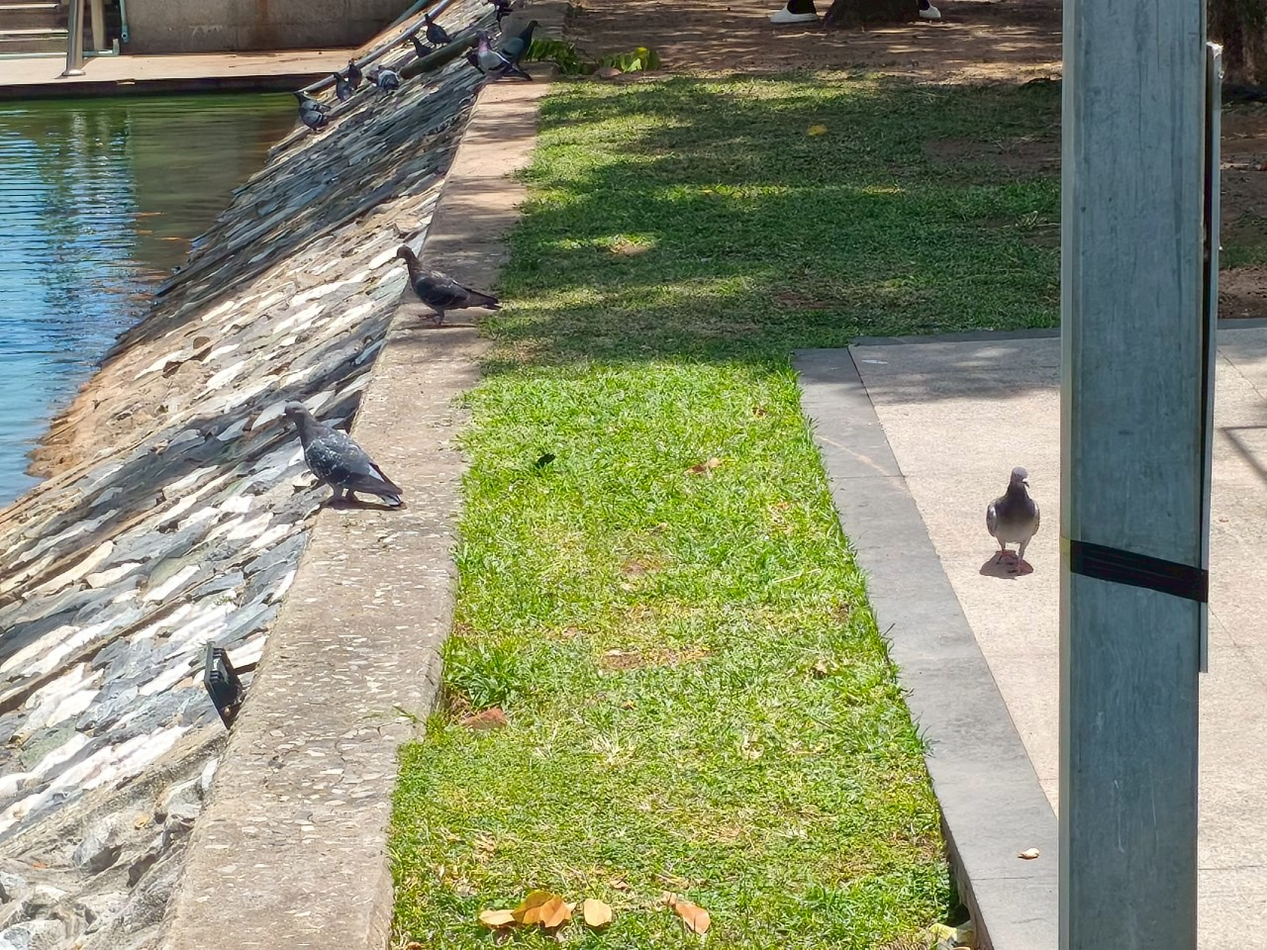Pigeon: (284, 403, 403, 507), (397, 245, 500, 325), (986, 467, 1039, 566), (467, 32, 530, 79), (500, 21, 537, 75), (294, 89, 329, 131), (334, 60, 363, 100), (424, 13, 451, 44), (375, 69, 401, 91), (410, 36, 433, 57)
